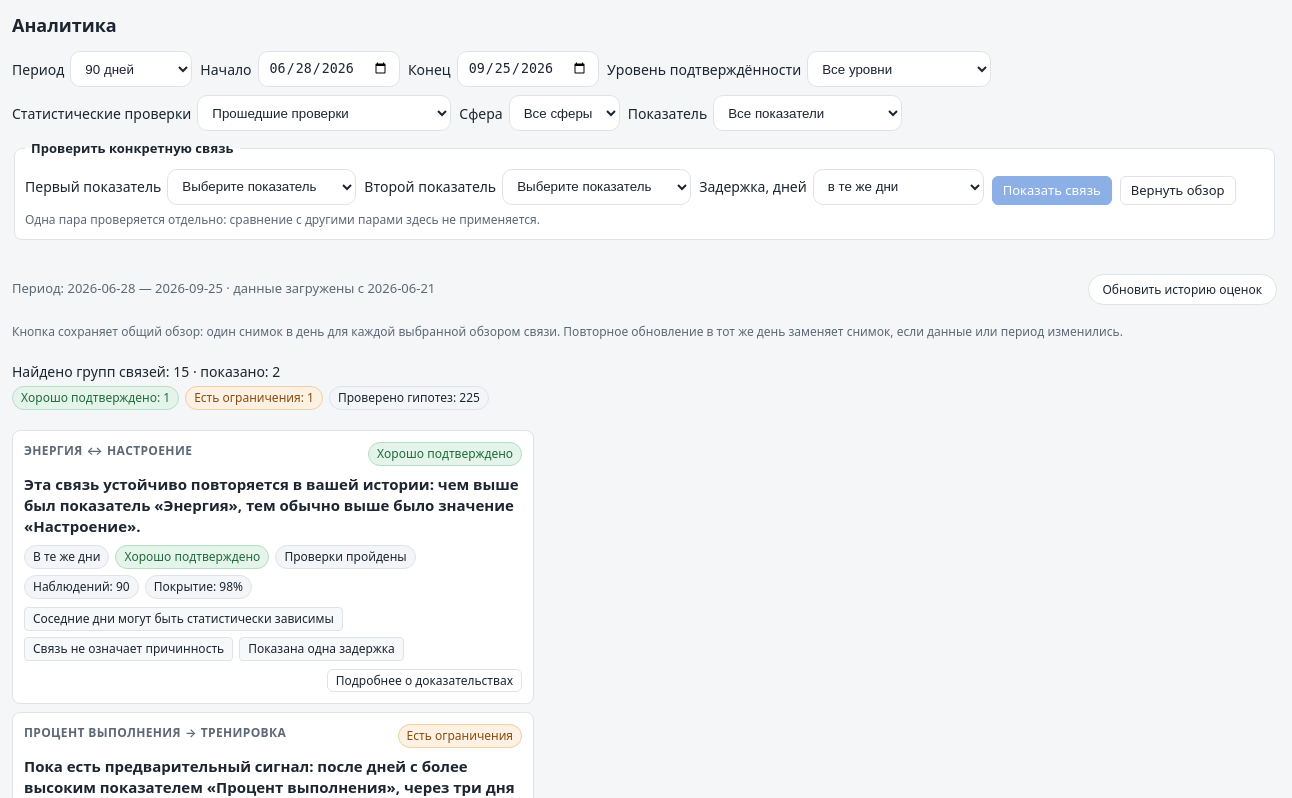
Scenario: InsightsPage › applies the confidence filter through the backend query
Check: the text "Эта связь устойчиво повторяется" is shown, box [24,474,519,536]
Step 1. Select "Предварительно" in the dropdown labelled "Уровень подтверждённости" → (899, 69), box [807,51,991,87]
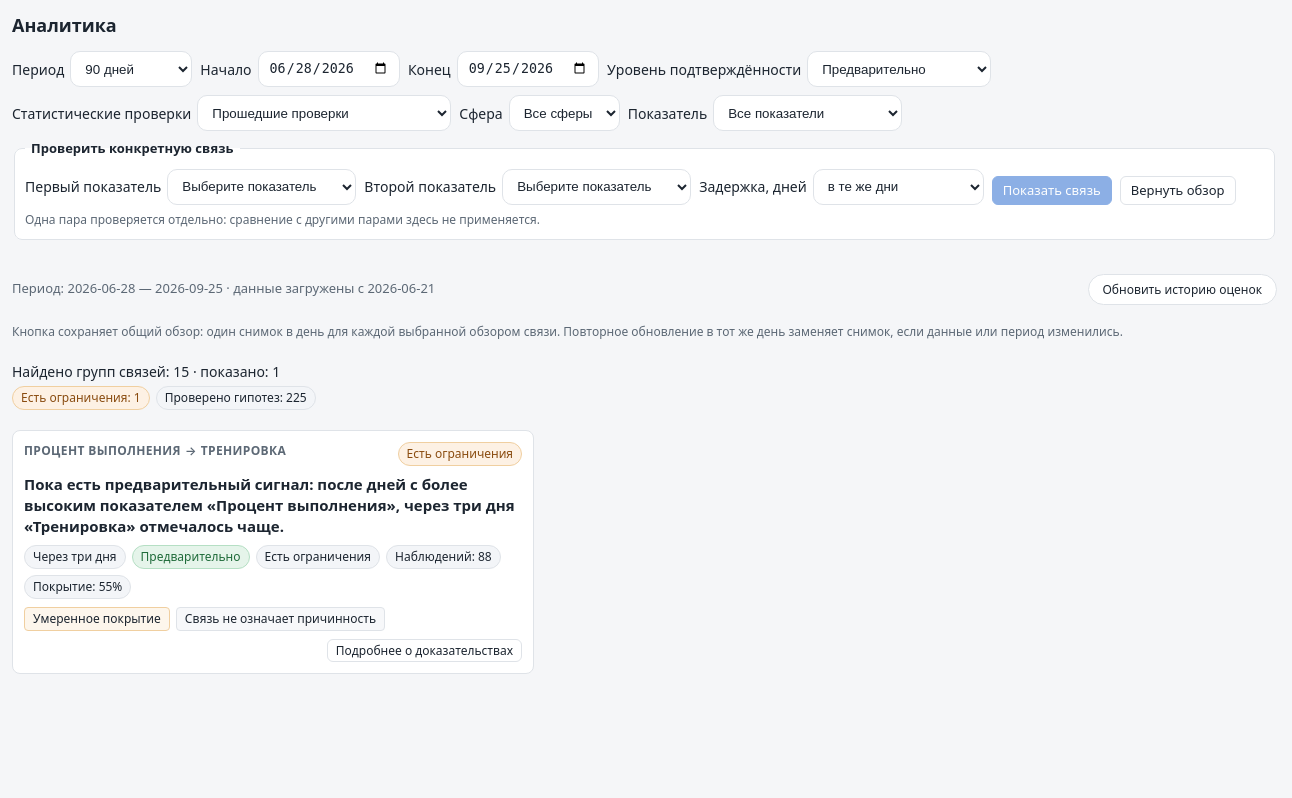
Check: the text "Пока есть предварительный сигнал" is shown, box [24,474,514,536]
Check: the text "Эта связь устойчиво повторяется" is gone
